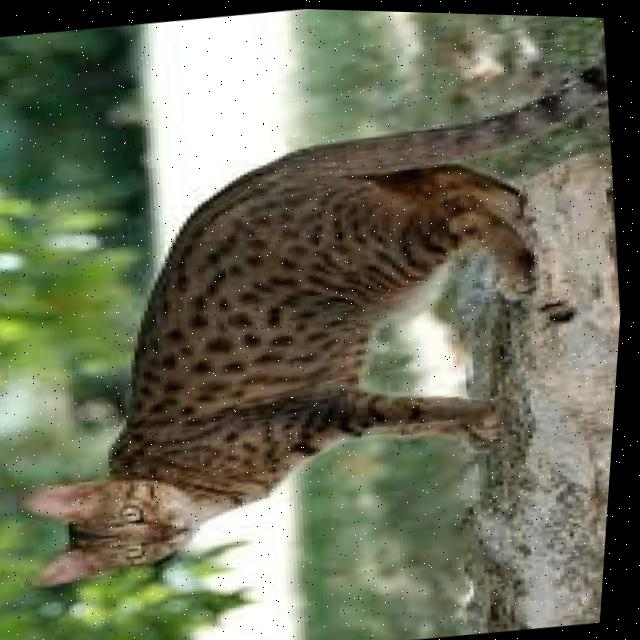Egyptian Mau: (0, 4, 640, 608)
